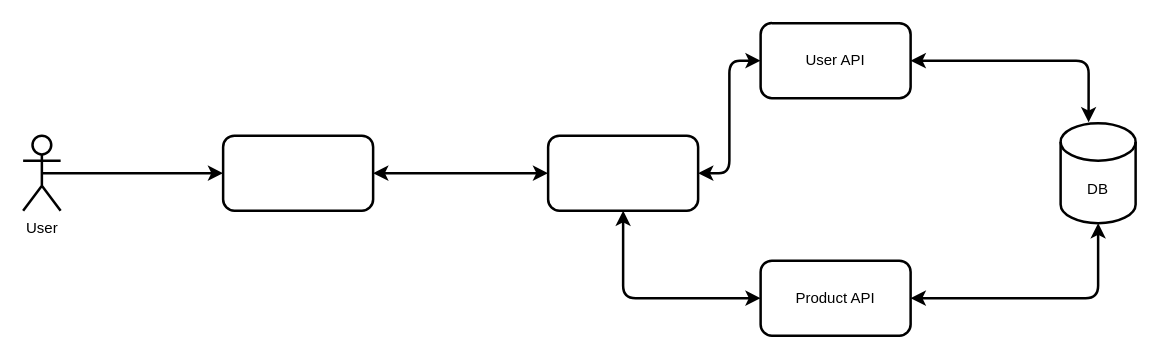
The diagram is 1158 pixels wide and 358 high, and some of its shapes have lost their labels. Each missing label, with the centre of its shape:
"Client" belongs at pixel 297 172.
"Gateway" belongs at pixel 622 172.
